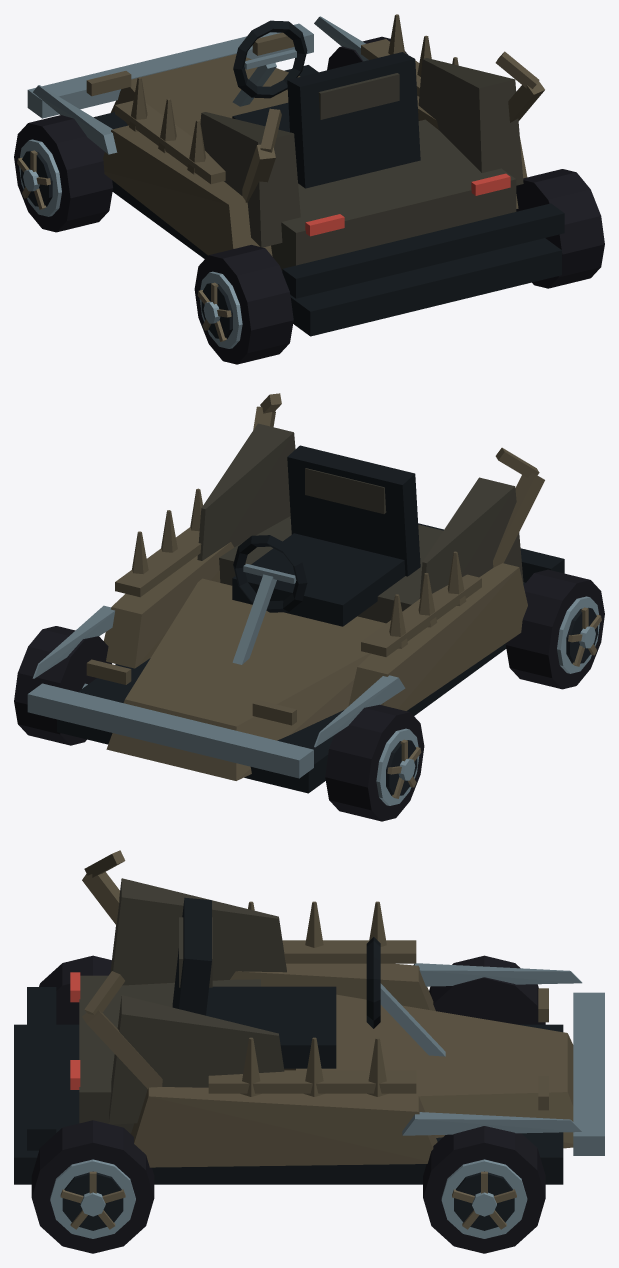
The model's file is kart.glb.
3 views of the same model, one above another, from view 1: azimuth 30°, elevation 25°; view 2: azimuth 150°, elevation 25°; view 3: azimuth 270°, elevation 25° (orthographic). The views are drawn at different scales.
Parts seen in each view (by area): view 1: chassis, wheel-rear-left, wheel-front-left, wheel-rear-right, wheel-front-right; view 2: chassis, wheel-front-left, wheel-rear-left, wheel-front-right; view 3: chassis, wheel-rear-right, wheel-front-right, wheel-front-left, wheel-rear-left.
Part boxes in pixels (box(x1,y1,x2,y2)): chassis: box(27, 14, 564, 336); wheel-rear-left: box(194, 245, 293, 364); wheel-front-left: box(14, 115, 112, 232); wheel-rear-right: box(516, 169, 604, 288); wheel-front-right: box(327, 36, 407, 70); chassis: box(27, 393, 564, 793); wheel-front-left: box(325, 704, 424, 821); wheel-rear-left: box(506, 569, 604, 689); wheel-front-right: box(14, 626, 111, 745); chassis: box(14, 850, 604, 1184); wheel-rear-right: box(31, 1120, 154, 1253); wheel-front-right: box(423, 1126, 545, 1253); wheel-front-left: box(429, 955, 545, 1024); wheel-rear-left: box(39, 955, 111, 1024).
Bounding box in the file's own units: 2.41 × 1.38 × 2.99.
